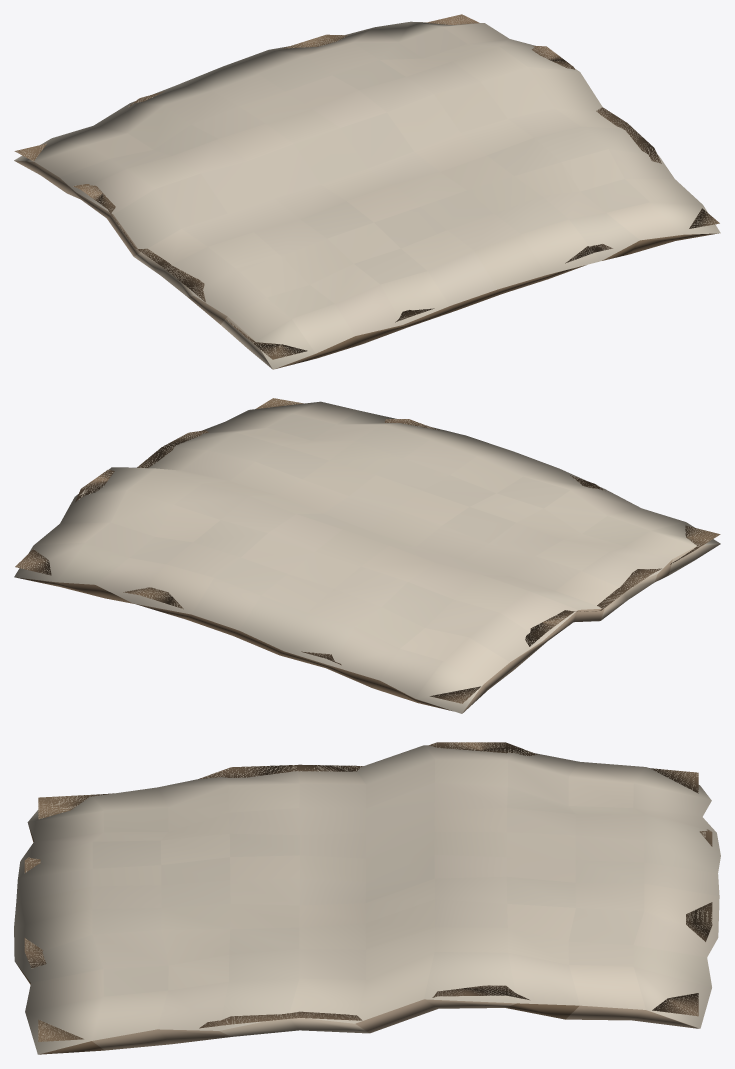
The model's file is Cloth.glb.
3 views of the same model, one above another, from view 1: azimuth 30°, elevation 25°; view 2: azimuth 150°, elevation 25°; view 3: azimuth 270°, elevation 25° (orthographic). The views are drawn at different scales.
Visible parts, largest first — view 1: Cloth; view 2: Cloth; view 3: Cloth.
Boxes of the visible parts, x1,y1,x2,y2 form: Cloth: (14, 14, 720, 369); Cloth: (14, 398, 720, 713); Cloth: (14, 742, 720, 1054).
Size of the model in its own units: 0.6024 by 0.1095 by 0.6168.
